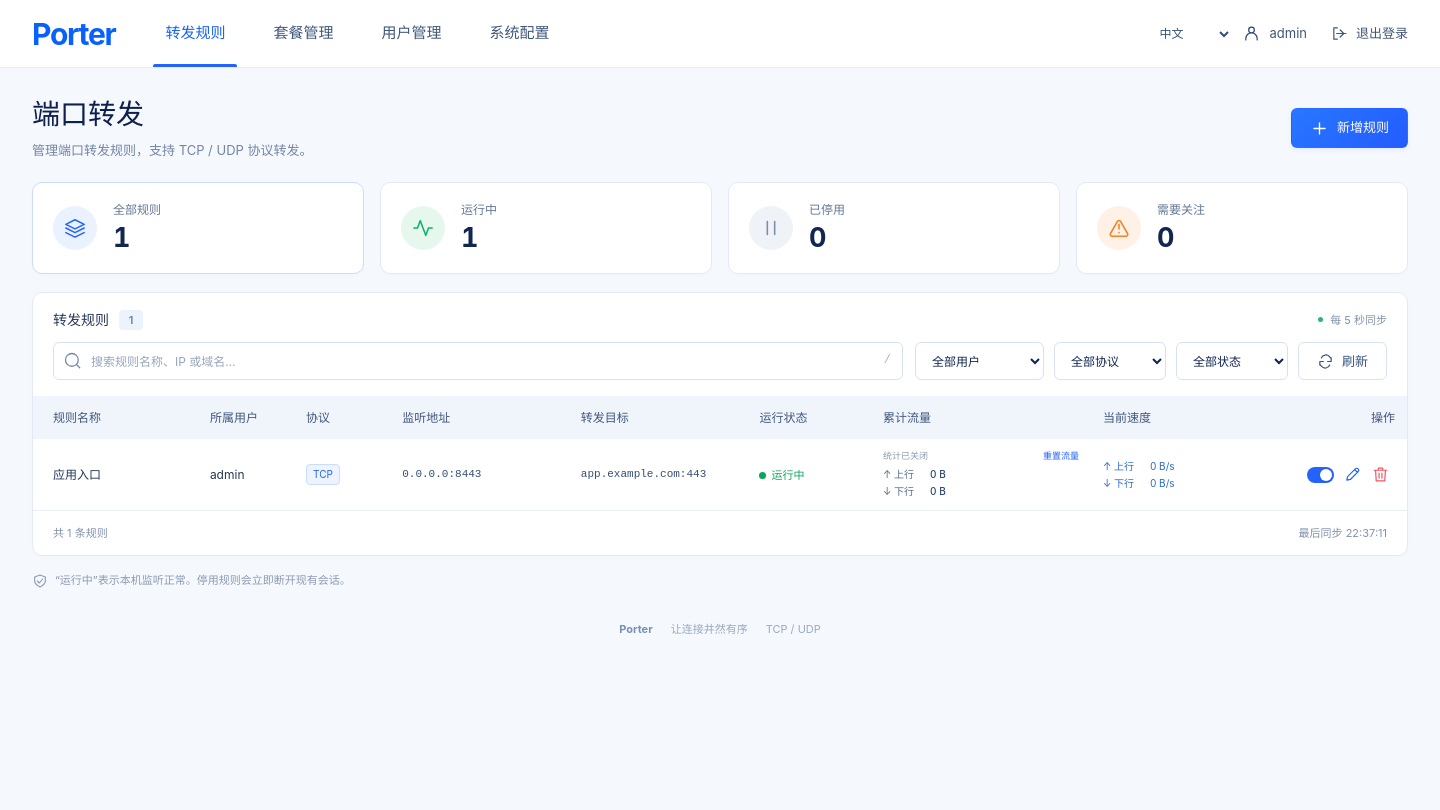
Scenario: 转发规则管理 › 编辑带 revision，启停和删除对应真实操作并先确认
The width and height of the screenshot is (1440, 810).
Click the button named "编辑 应用入口": (1352, 474) [1339,460,1365,488]
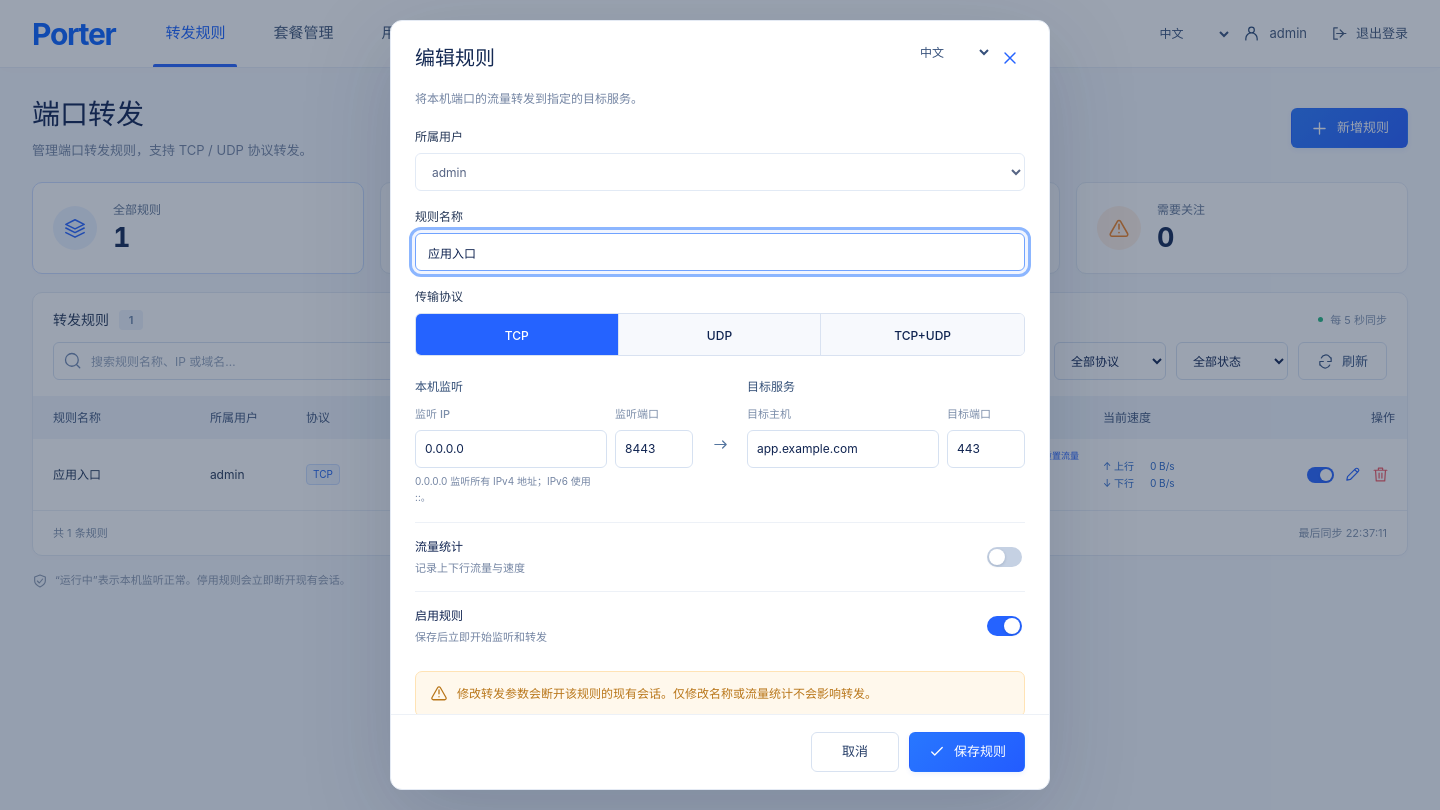
Replace the text in the field with id "rule-name" with "新入口": (720, 252) [415,233,1025,271]
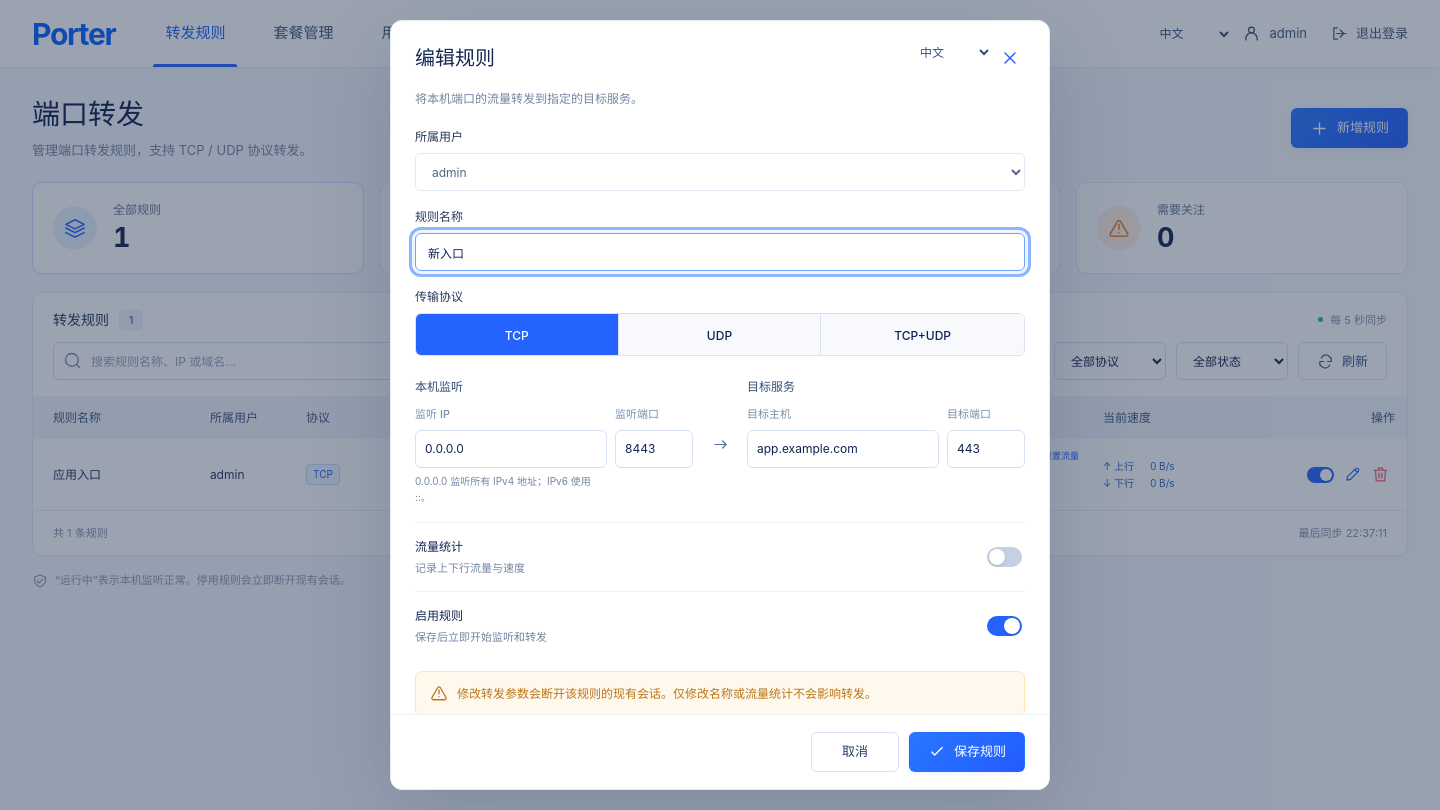
Submit the form with class "editor", box [391,21,1049,789]
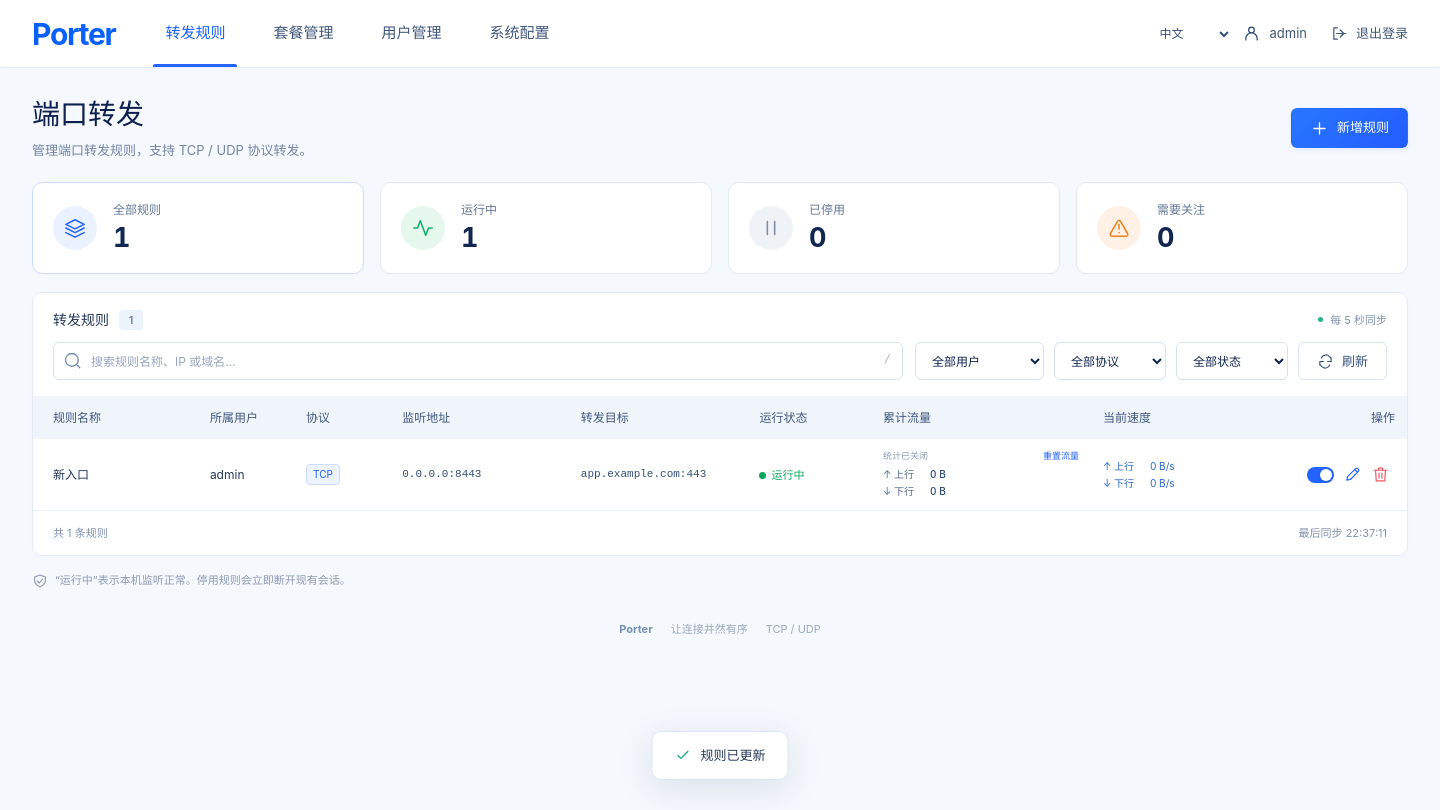
Click the switch named "停用 新入口": (1320, 474) [1307,466,1334,482]
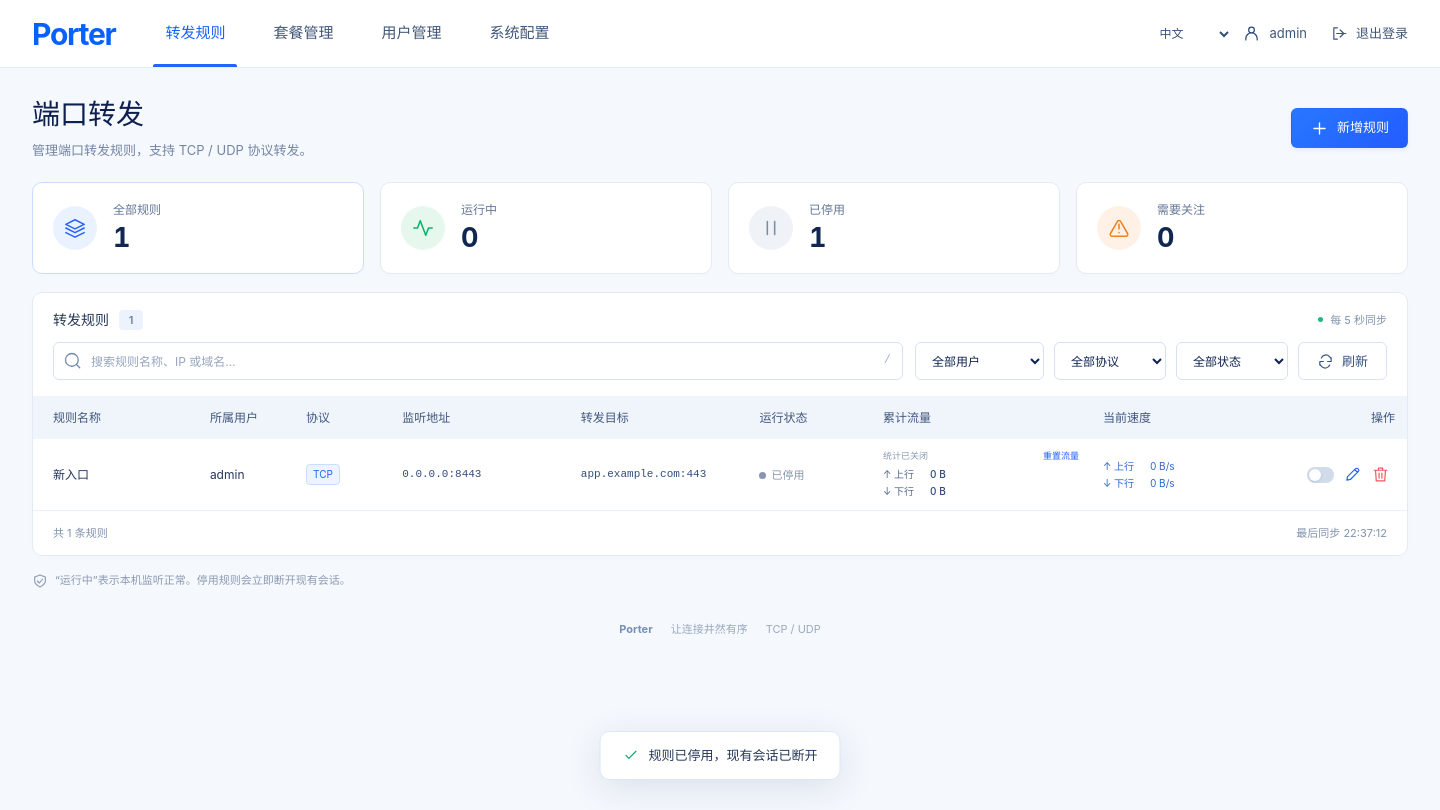
Now the element with class "desktop-table" shows "已停用", box [771,468,804,482]
Click the button named "删除 新入口": (1380, 474) [1367,460,1393,488]
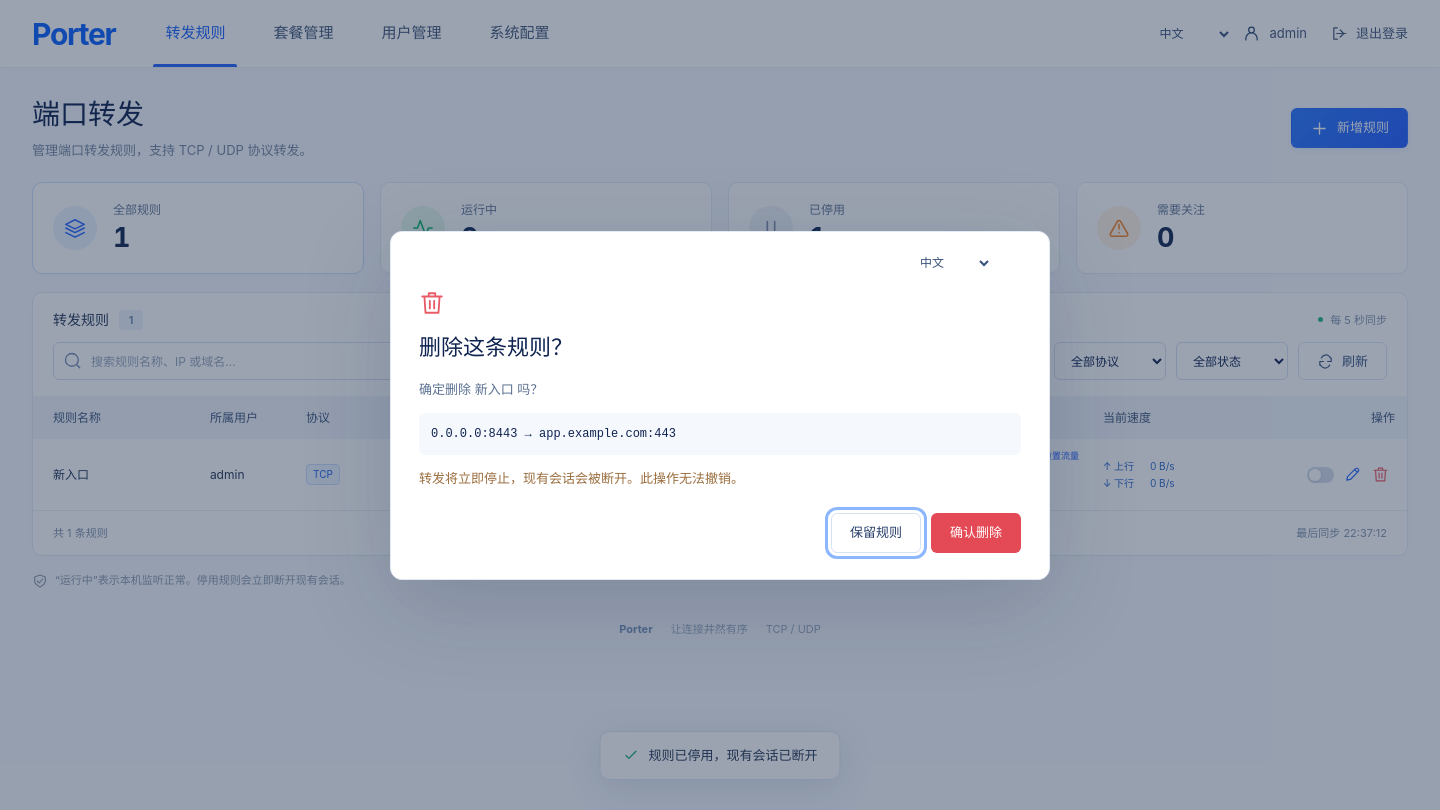
Now the dialog shows "现有会话会被断开", box [419,470,744,486]
Click the button "确认删除": (976, 532) [931,512,1021,552]
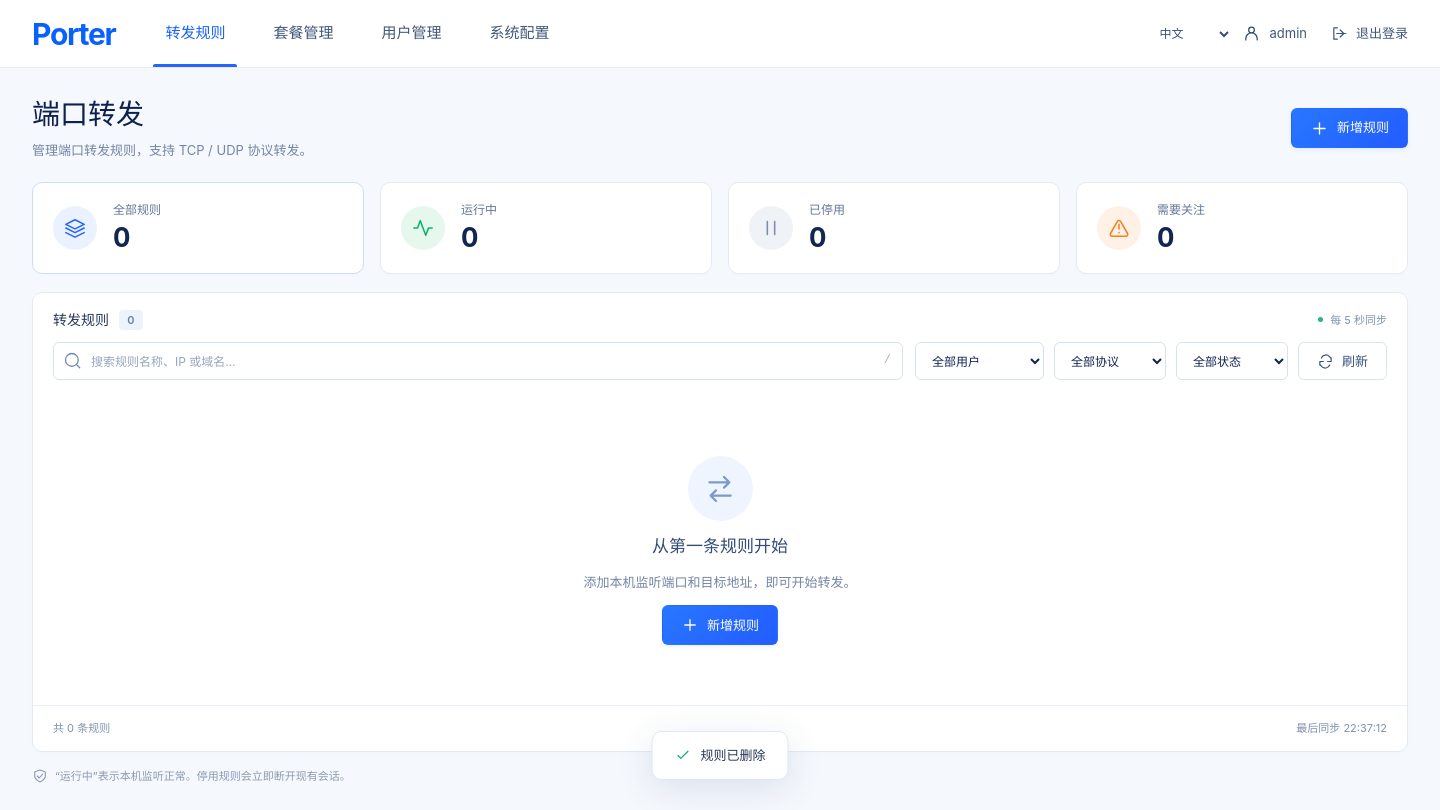
Now the text "从第一条规则开始" is shown, box [652,534,788,560]
